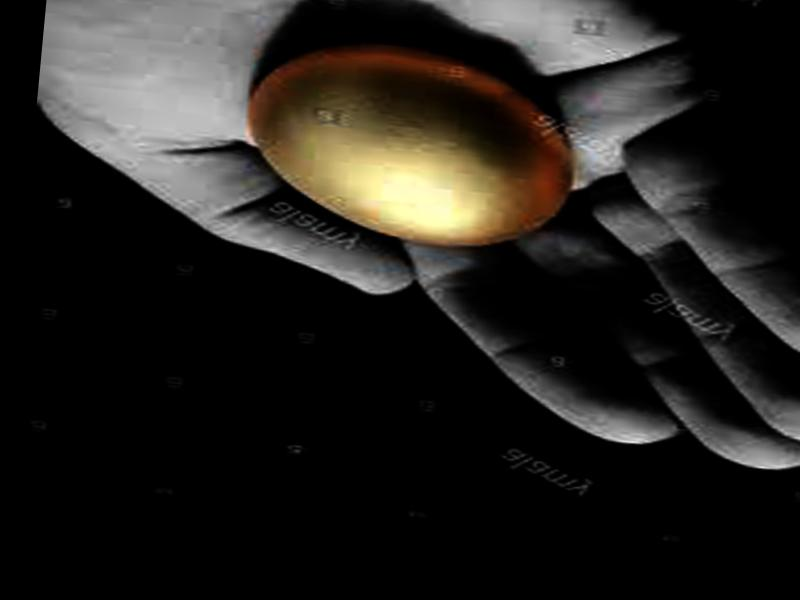Eggs: (242, 36, 583, 256)
